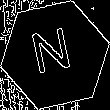N_S: (30, 26, 80, 84)
